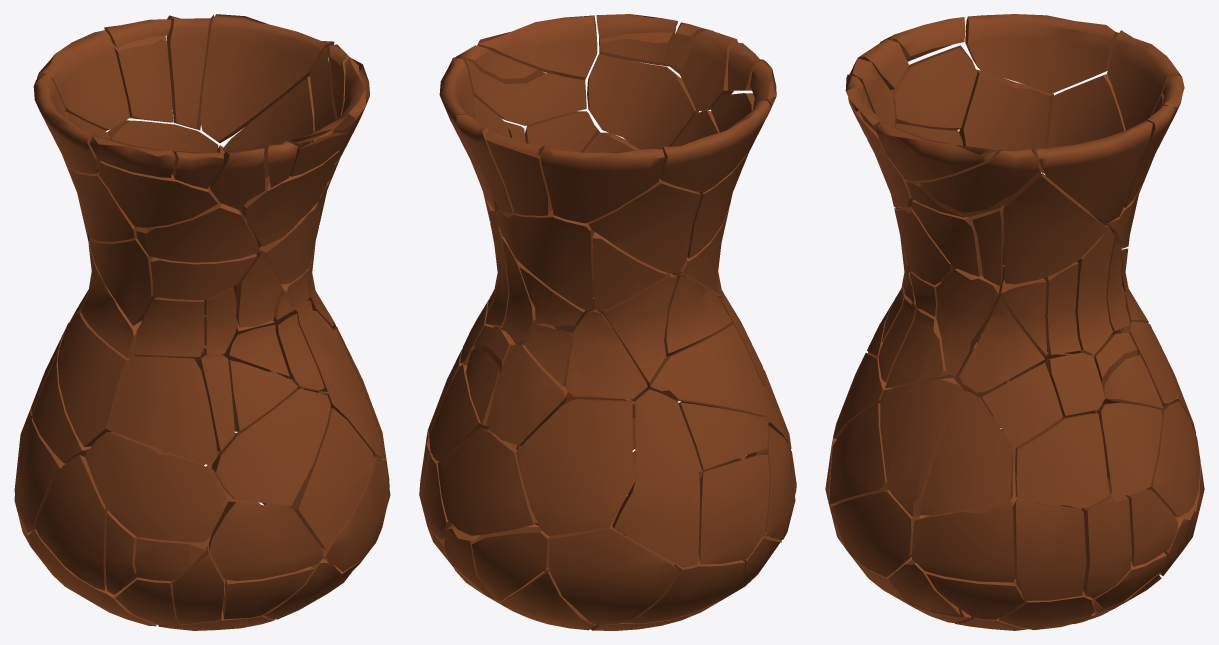
The model's file is vaseFractured.fbx.
The picture shows the model from 3 angles, left to right: view 1: azimuth 30°, elevation 25°; view 2: azimuth 150°, elevation 25°; view 3: azimuth 270°, elevation 25°; orthographic projection.
Visible parts, largest first — view 1: Cylinder_cell.046, Cylinder_cell.019, Cylinder_cell.079, Cylinder_cell.010, Cylinder_cell.008, Cylinder_cell.097, Cylinder_cell.015, Cylinder_cell.080, Cylinder_cell.083, Cylinder_cell.025, Cylinder_cell.017, Cylinder_cell.067 (+43 smaller); view 2: Cylinder_cell.040, Cylinder_cell.057, Cylinder_cell.067, Cylinder_cell.087, Cylinder_cell.083, Cylinder_cell.080, Cylinder_cell.037, Cylinder_cell.011, Cylinder_cell.085, Cylinder_cell.060, Cylinder_cell.012, Cylinder_cell.042 (+44 smaller); view 3: Cylinder_cell.076, Cylinder_cell.030, Cylinder_cell.045, Cylinder_cell.036, Cylinder_cell.090, Cylinder_cell.084, Cylinder_cell.094, Cylinder_cell.019, Cylinder_cell.028, Cylinder_cell.017, Cylinder_cell.091, Cylinder_cell.053 (+43 smaller).
Boxes of the visible parts, <box> form: Cylinder_cell.046: <box>85,431,228,542</box>; Cylinder_cell.019: <box>200,14,334,142</box>; Cylinder_cell.079: <box>211,388,330,505</box>; Cylinder_cell.010: <box>108,356,217,465</box>; Cylinder_cell.008: <box>208,501,323,580</box>; Cylinder_cell.097: <box>34,455,107,590</box>; Cylinder_cell.015: <box>289,408,373,549</box>; Cylinder_cell.080: <box>57,313,129,446</box>; Cylinder_cell.083: <box>37,30,129,130</box>; Cylinder_cell.025: <box>136,199,259,262</box>; Cylinder_cell.017: <box>98,161,217,227</box>; Cylinder_cell.067: <box>241,150,339,246</box>; Cylinder_cell.040: <box>516,399,632,536</box>; Cylinder_cell.057: <box>549,527,677,625</box>; Cylinder_cell.067: <box>587,54,698,149</box>; Cylinder_cell.087: <box>437,427,536,535</box>; Cylinder_cell.083: <box>540,146,664,223</box>; Cylinder_cell.080: <box>647,324,767,416</box>; Cylinder_cell.037: <box>698,455,769,564</box>; Cylinder_cell.011: <box>588,178,701,273</box>; Cylinder_cell.085: <box>496,209,593,310</box>; Cylinder_cell.060: <box>612,472,699,567</box>; Cylinder_cell.012: <box>486,344,568,445</box>; Cylinder_cell.042: <box>477,15,597,79</box>; Cylinder_cell.076: <box>965,14,1118,93</box>; Cylinder_cell.030: <box>919,390,1012,515</box>; Cylinder_cell.045: <box>1003,173,1107,284</box>; Cylinder_cell.036: <box>1015,413,1109,507</box>; Cylinder_cell.090: <box>880,377,964,517</box>; Cylinder_cell.084: <box>912,501,1014,582</box>; Cylinder_cell.094: <box>1013,499,1086,600</box>; Cylinder_cell.019: <box>1036,120,1152,222</box>; Cylinder_cell.028: <box>959,69,1053,173</box>; Cylinder_cell.017: <box>890,45,977,130</box>; Cylinder_cell.091: <box>830,491,919,577</box>; Cylinder_cell.053: <box>1097,402,1162,495</box>.
Bounding box in the file's own units: 27.55 × 40 × 27.55.
